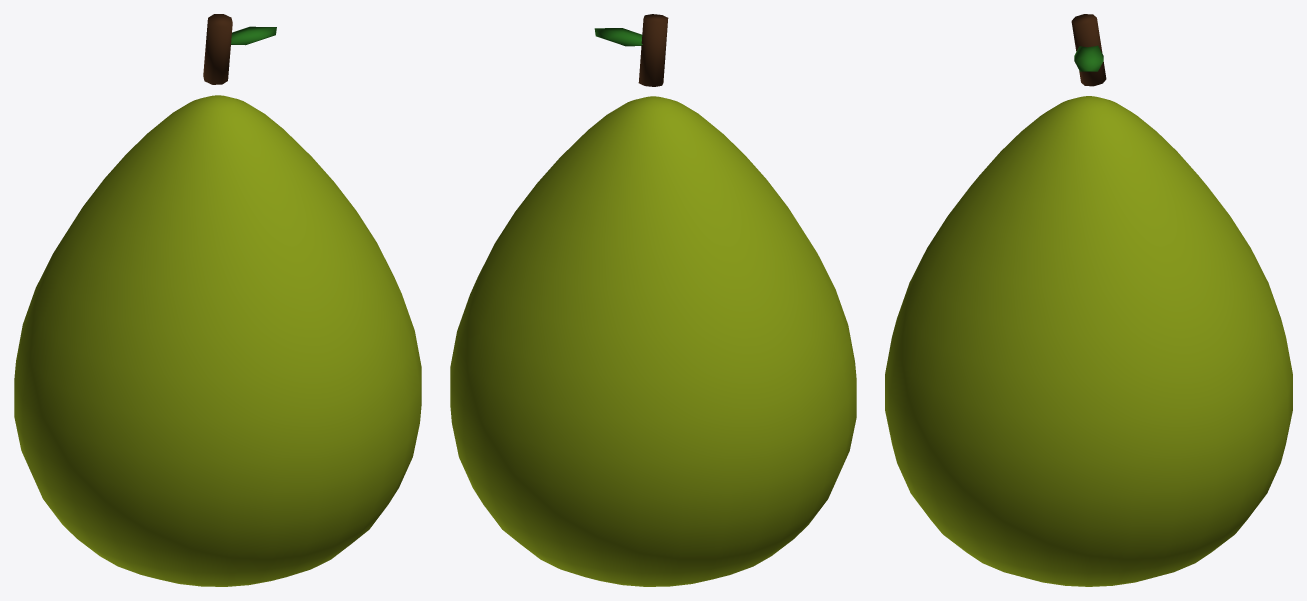
File: pear.fbx
The picture shows the model from 3 angles, left to right: view 1: azimuth 30°, elevation 25°; view 2: azimuth 150°, elevation 25°; view 3: azimuth 270°, elevation 25°; orthographic projection.
Visible parts, largest first — view 1: pear; view 2: pear; view 3: pear.
Part boxes in pixels (x1,y1,x2,y2): pear: (14, 14, 421, 586); pear: (450, 14, 856, 586); pear: (885, 14, 1292, 586).
Size of the model in its own units: 67.94 by 100 by 67.94.
Materials: 1 (1 with a texture image).
